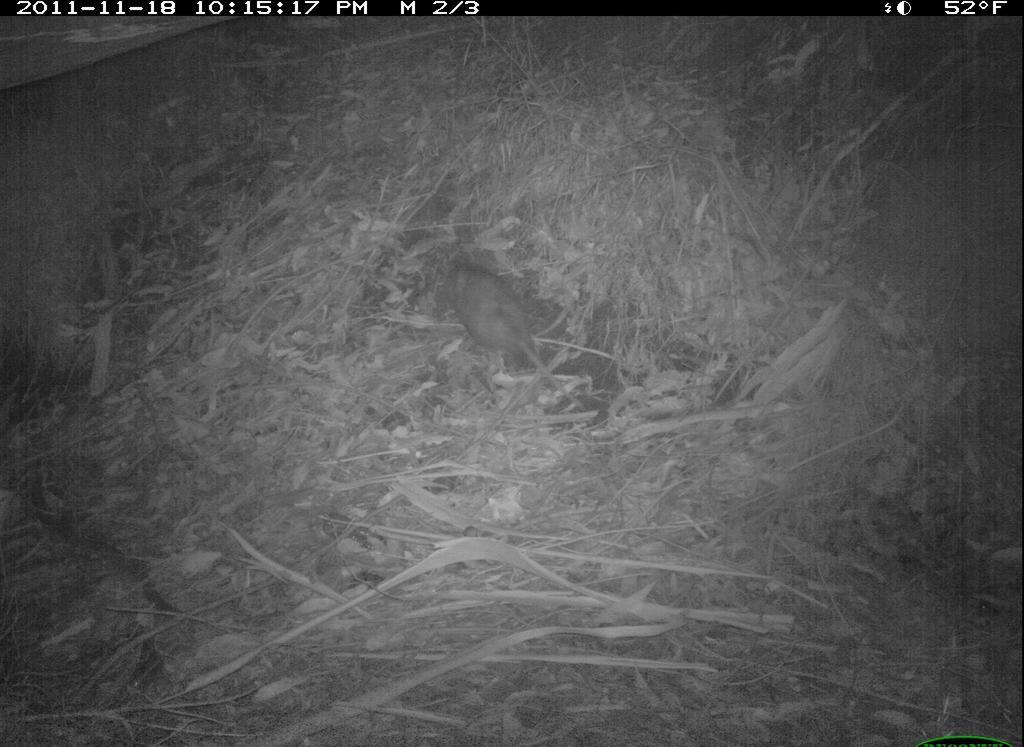opossum: (408, 241, 587, 413)
